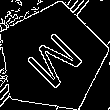M_SE: (18, 23, 87, 92)
